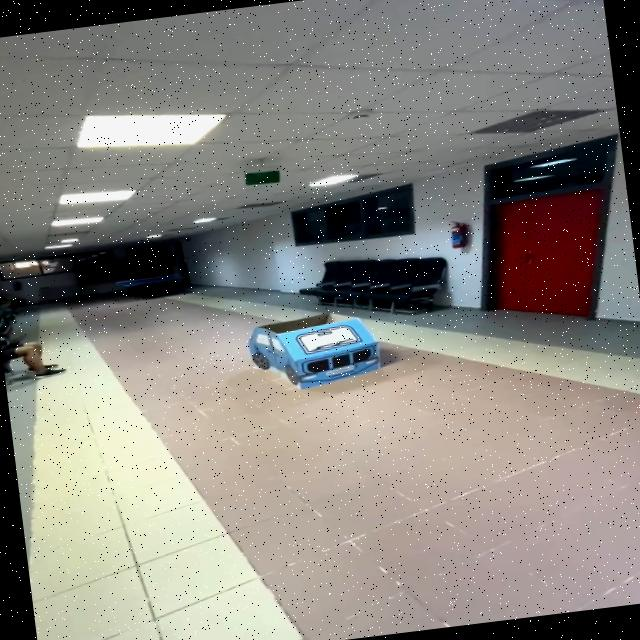blue_car: (230, 296, 415, 409)
